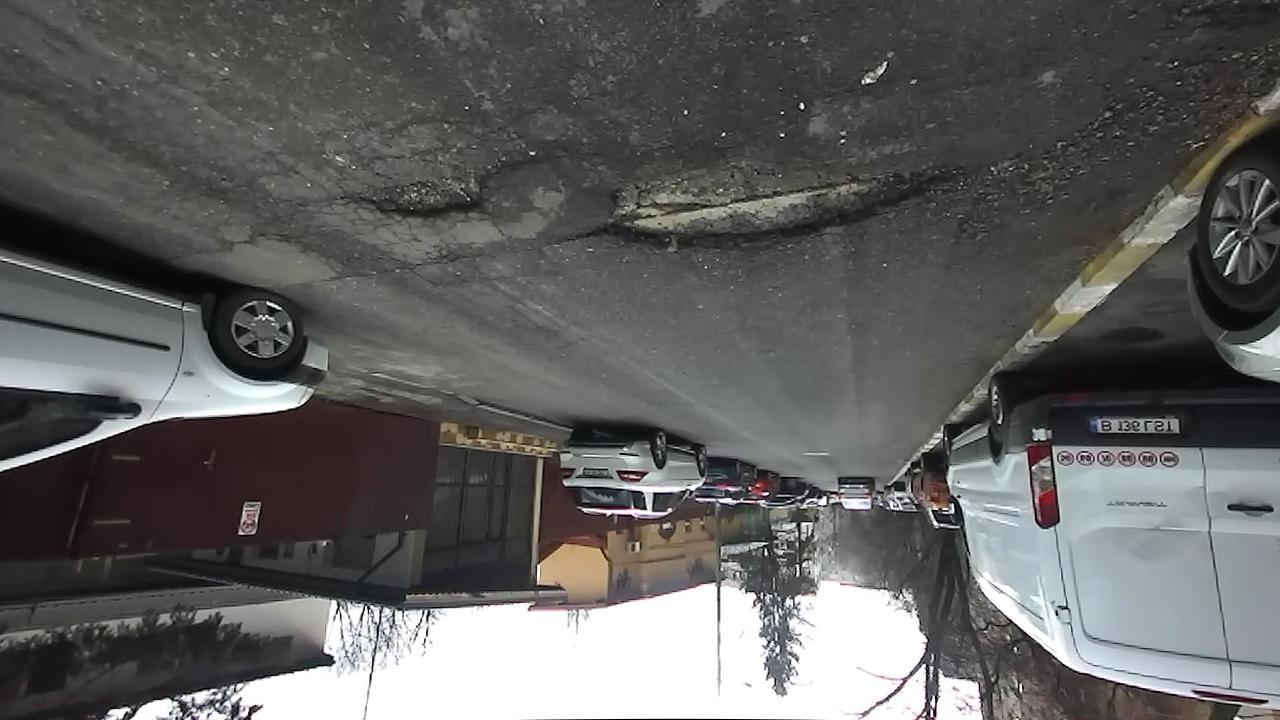pothole: (581, 141, 982, 254), (334, 159, 518, 227)
